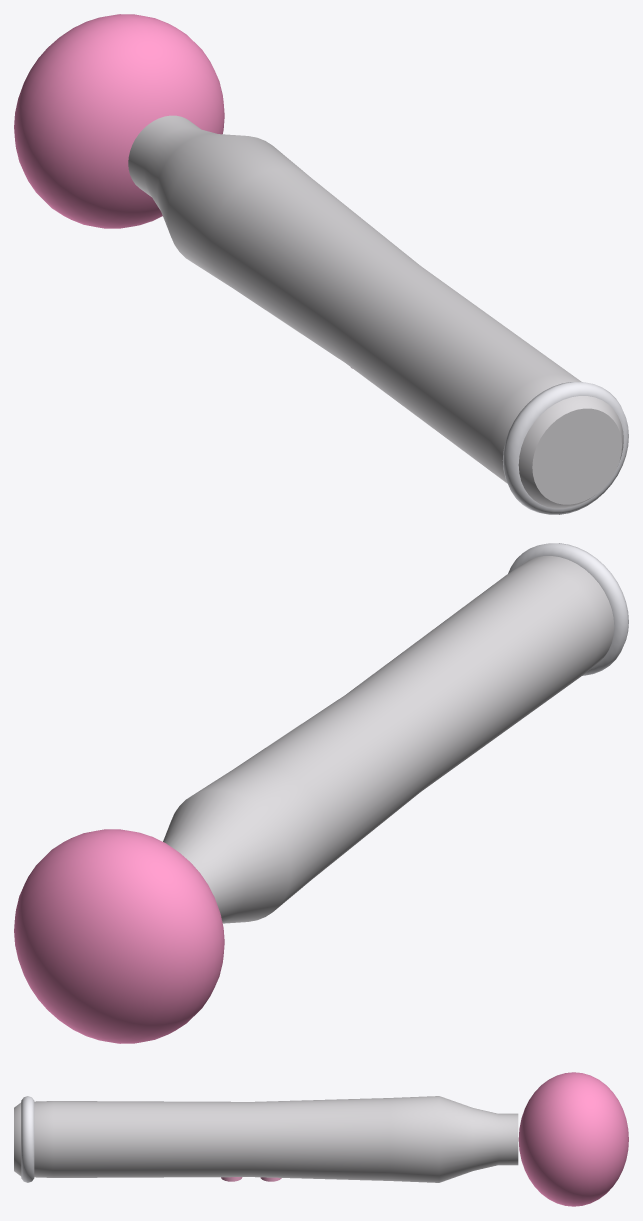
Rendered from Wand.fbx.
The picture shows the model from 3 angles, top to bottom: view 1: azimuth 30°, elevation 25°; view 2: azimuth 150°, elevation 25°; view 3: azimuth 270°, elevation 25°; orthographic projection. The views are drawn at different scales.
Parts seen in each view (by area): view 1: Wand_Body, Wand_Head, Wand_Ring; view 2: Wand_Body, Wand_Head, Wand_Ring; view 3: Wand_Body, Wand_Head, Wand_Ring.
Part boxes in pixels (box(x1,y1,x2,y2)): Wand_Body: box(128, 115, 623, 508); Wand_Head: box(14, 14, 224, 228); Wand_Ring: box(502, 382, 628, 514); Wand_Body: box(163, 556, 614, 923); Wand_Head: box(14, 829, 224, 1043); Wand_Ring: box(508, 543, 628, 675); Wand_Body: box(14, 1096, 518, 1182); Wand_Head: box(518, 1072, 628, 1206); Wand_Ring: box(21, 1096, 34, 1182).
Bounding box in the file's own units: 0.068 × 0.068 × 0.3109.
